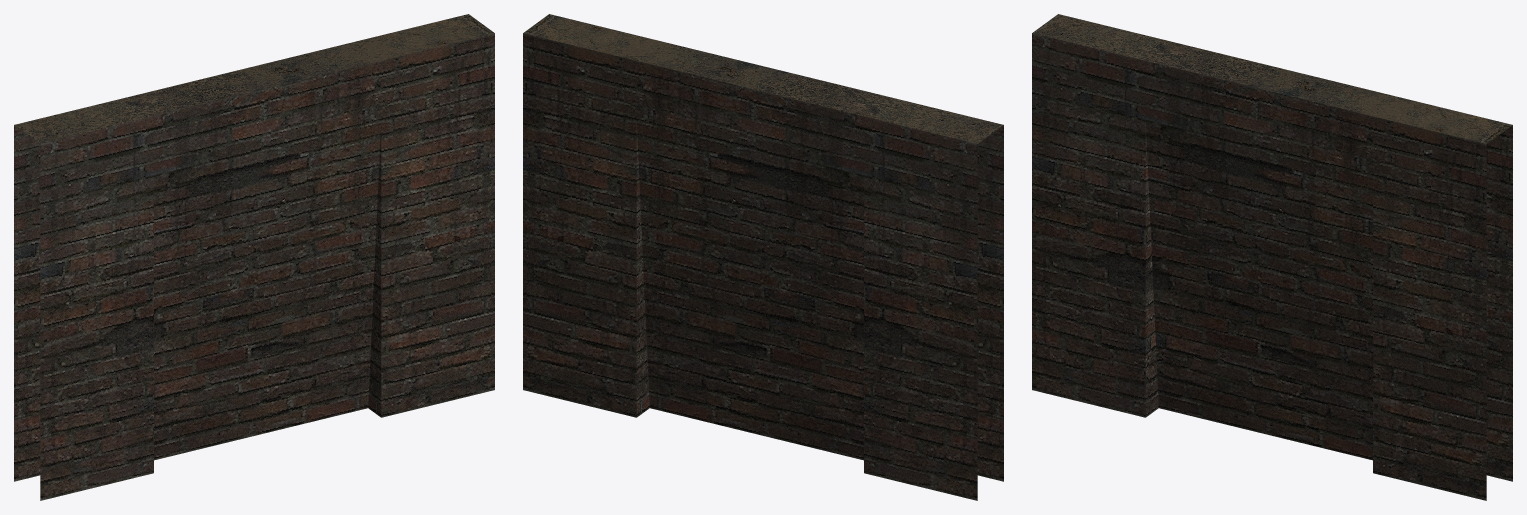
Rendered from wall_hs_1_t_2.glb.
The picture shows the model from 3 angles, left to right: view 1: azimuth 30°, elevation 25°; view 2: azimuth 150°, elevation 25°; view 3: azimuth 330°, elevation 25°; orthographic projection.
Parts seen in each view (by area): view 1: wall_hs_1_t_2; view 2: wall_hs_1_t_2; view 3: wall_hs_1_t_2.
Part boxes in pixels (x1=…): wall_hs_1_t_2: x1=14, y1=14, x2=494, y2=500; wall_hs_1_t_2: x1=523, y1=14, x2=1003, y2=500; wall_hs_1_t_2: x1=1032, y1=14, x2=1512, y2=500.
Bounding box in the file's own units: 4 × 3 × 0.4.
2 materials, 2 textured.
